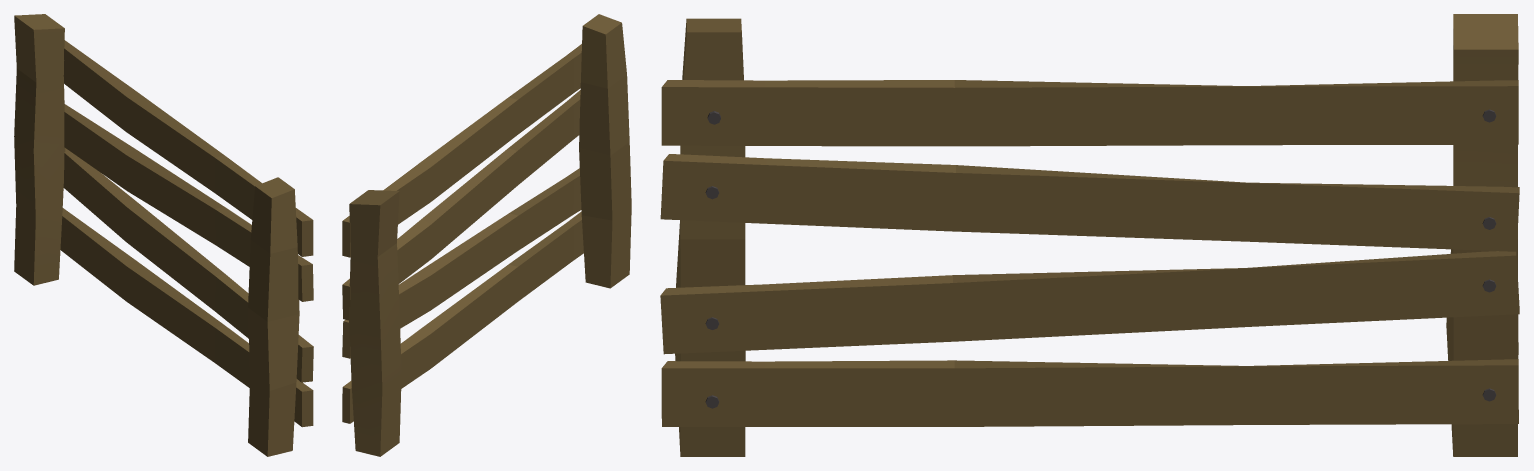
Rendered from FenceTest1.fbx.
3 renders of one model, left to right at view 1: azimuth 30°, elevation 25°; view 2: azimuth 150°, elevation 25°; view 3: azimuth 270°, elevation 25°, orthographic. The views are drawn at different scales.
Visible parts, largest first — view 1: Cube.021, Cube.018, Cube.019, Cube.023, Cube.022, Cube.020; view 2: Cube.021, Cube.018, Cube.019, Cube.020, Cube.023, Cube.022; view 3: Cube.020, Cube.022, Cube.019, Cube.023, Cube.021, Cube.018.
Boxes of the visible parts, <box> form: Cube.021: <box>14,14,65,285</box>; Cube.018: <box>248,177,299,456</box>; Cube.019: <box>63,40,313,256</box>; Cube.023: <box>60,208,313,427</box>; Cube.022: <box>63,148,313,382</box>; Cube.020: <box>64,104,313,301</box>; Cube.021: <box>349,190,401,456</box>; Cube.018: <box>579,14,631,288</box>; Cube.019: <box>342,44,581,257</box>; Cube.020: <box>342,90,580,320</box>; Cube.023: <box>342,211,583,423</box>; Cube.022: <box>342,168,581,358</box>; Cube.020: <box>660,154,1519,251</box>; Cube.022: <box>660,251,1519,354</box>; Cube.019: <box>661,80,1518,146</box>; Cube.023: <box>661,359,1518,426</box>; Cube.021: <box>1446,14,1518,456</box>; Cube.018: <box>675,18,745,456</box>.
Size of the model in its own units: 240 by 132 by 22.59.
